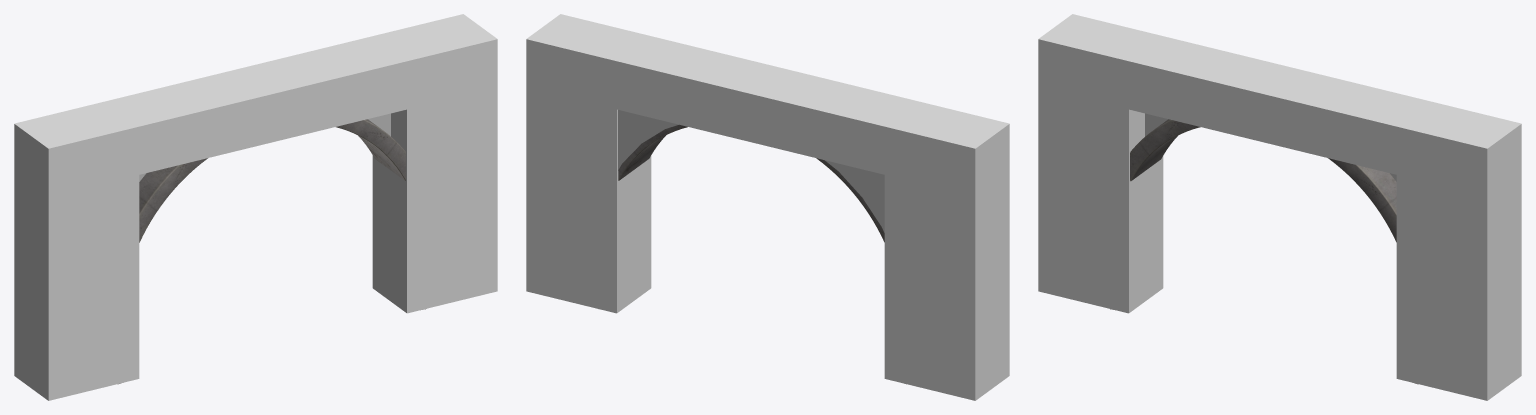
Rendered from TunnelEntrance.fbx.
3 renders of one model, left to right at view 1: azimuth 30°, elevation 25°; view 2: azimuth 150°, elevation 25°; view 3: azimuth 330°, elevation 25°, orthographic.
Visible parts, largest first — view 1: Coll, tunnel_entrance; view 2: Coll, wall.001, tunnel_entrance; view 3: Coll, tunnel_entrance.
Boxes of the visible parts, <box> form: Coll: <box>14,14,497,400</box>; tunnel_entrance: <box>118,119,425,384</box>; Coll: <box>526,14,1009,400</box>; wall.001: <box>618,110,884,232</box>; tunnel_entrance: <box>618,124,884,242</box>; Coll: <box>1038,14,1521,400</box>; tunnel_entrance: <box>1110,119,1417,384</box>.
Bounding box in the file's own units: 30.2 × 16.29 × 4.
